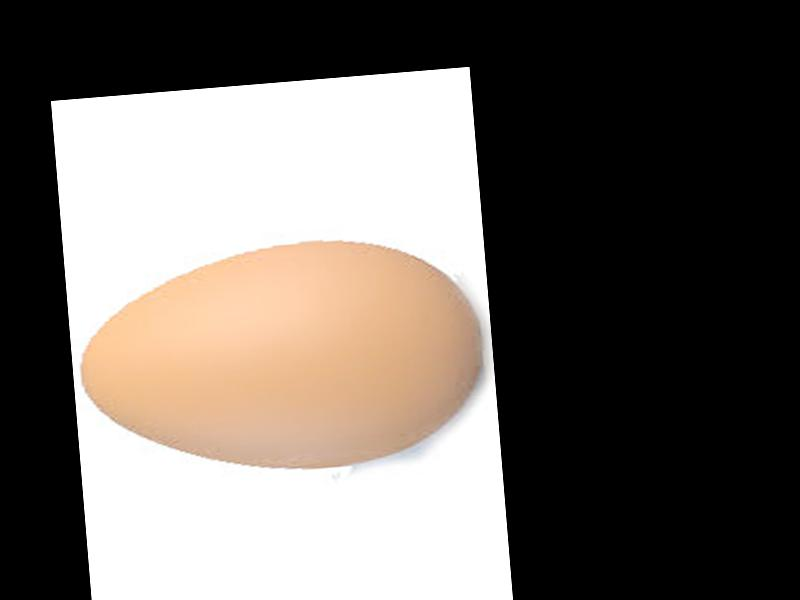Eggs: (74, 227, 491, 485)
